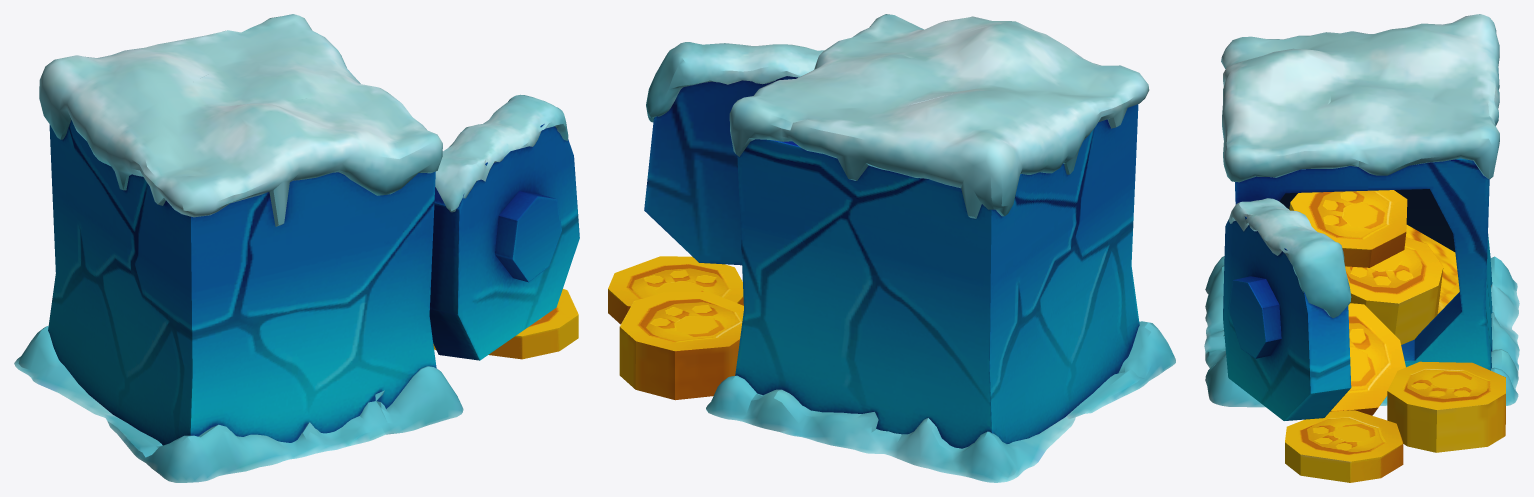
File: Safe Ice.obj
3 views of the same model, side by side, from view 1: azimuth 30°, elevation 25°; view 2: azimuth 150°, elevation 25°; view 3: azimuth 270°, elevation 25° (orthographic). The views are drawn at different scales.
Visible parts, largest first — view 1: SafeIce1; view 2: SafeIce1; view 3: SafeIce1.
Boxes of the visible parts, x1=… form: SafeIce1: x1=14, y1=14, x2=579, y2=482; SafeIce1: x1=608, y1=14, x2=1175, y2=482; SafeIce1: x1=1204, y1=14, x2=1519, y2=482.
Size of the model in its own units: 10.03 by 6.37 by 6.46.
Materials: 1 (1 with a texture image).
